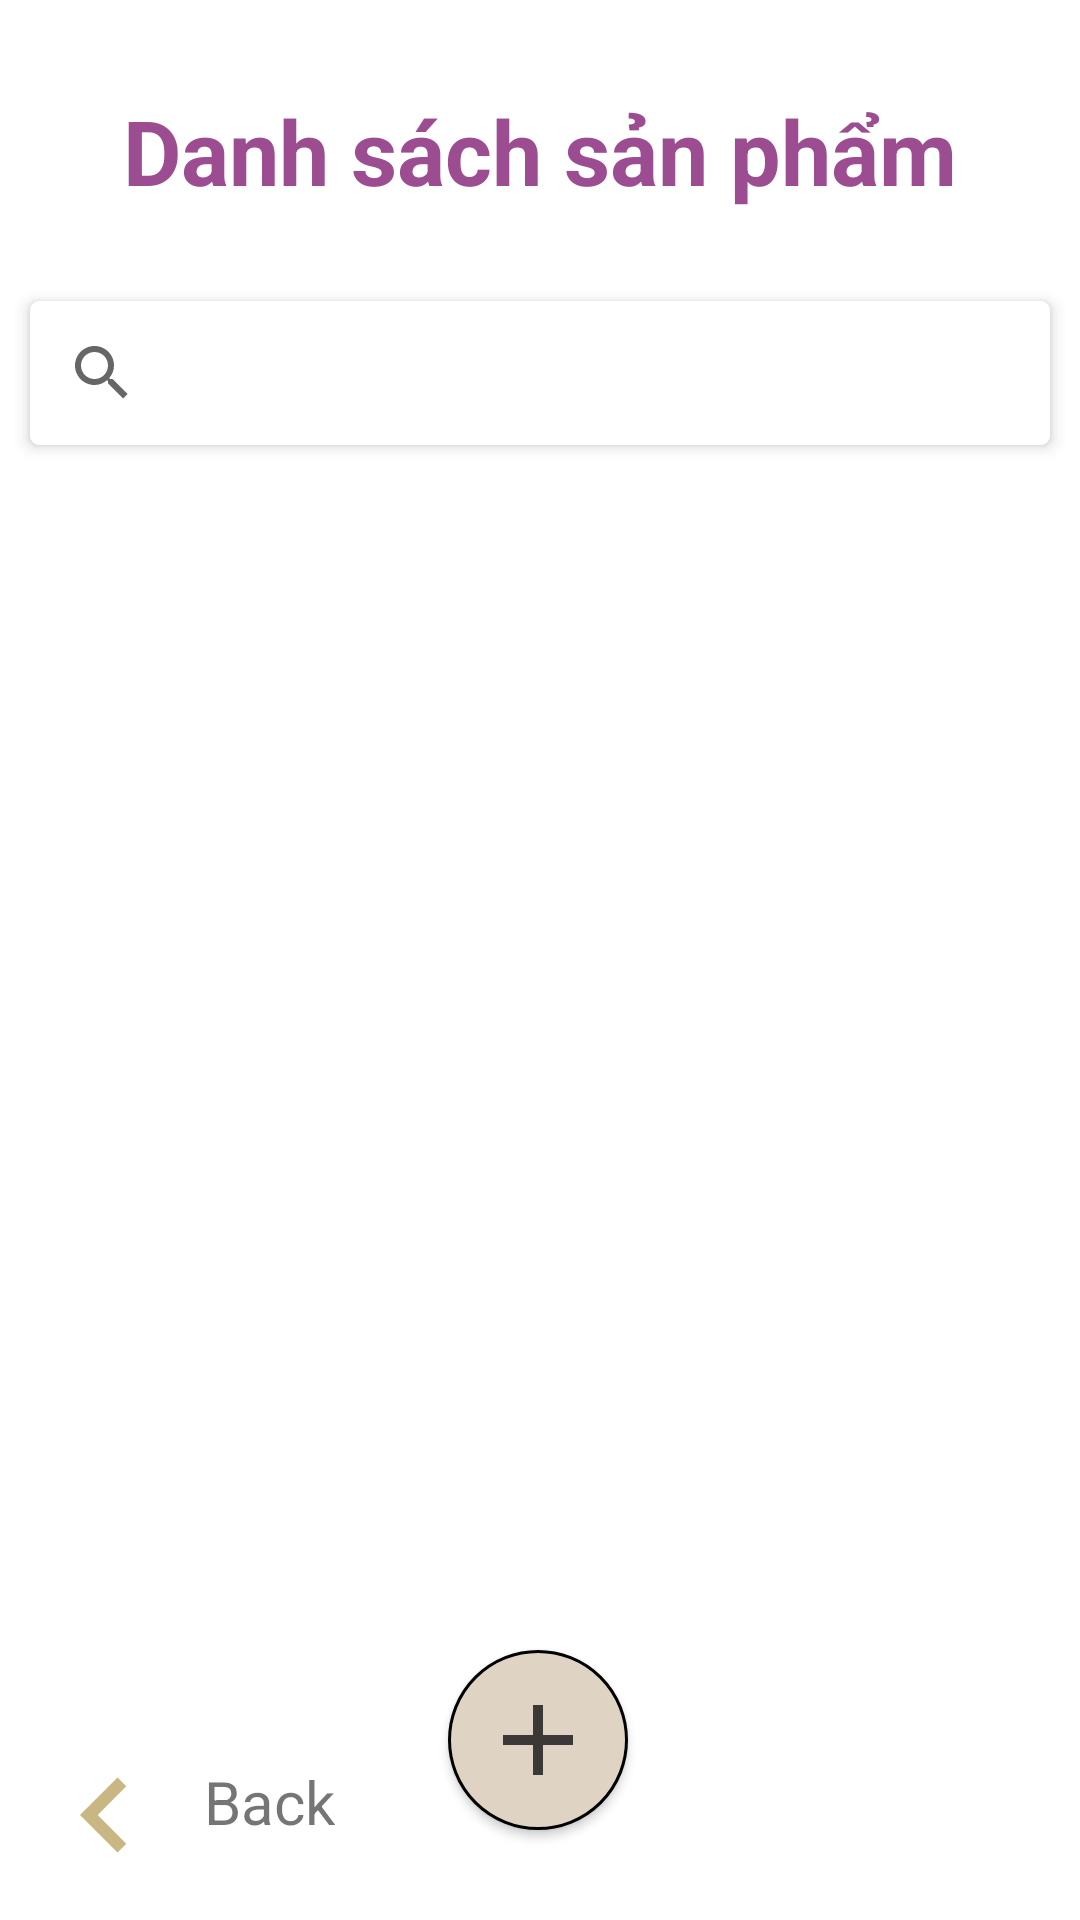

Icons on this 1080×1920 Android screen, each with the point to tap as (x=x, y=y):
chevron left: (x=103, y=1815)
